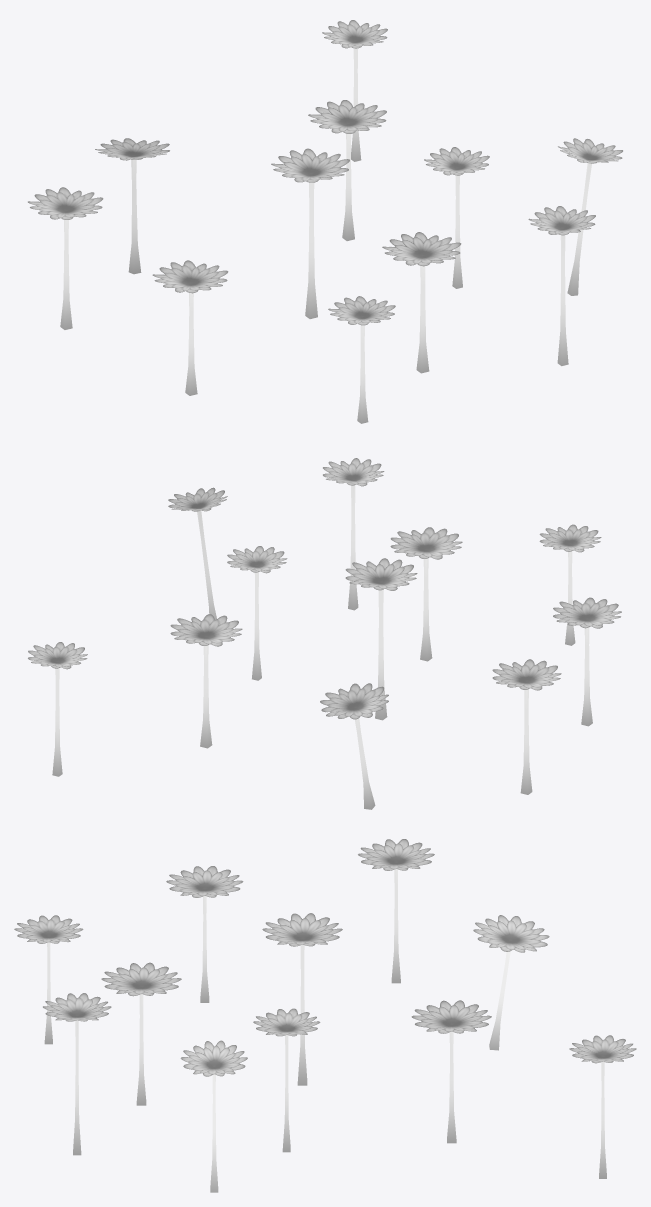
Rendered from SM_FlowersGroup_01_Unity.fbx.
3 renders of one model, top to bottom at view 1: azimuth 30°, elevation 25°; view 2: azimuth 150°, elevation 25°; view 3: azimuth 270°, elevation 25°, orthographic. The views are drawn at different scales.
Parts seen in each view (by area): view 1: SM_FlowerGroup_01_LOD0; view 2: SM_FlowerGroup_01_LOD0; view 3: SM_FlowerGroup_01_LOD0.
Part boxes in pixels (x1,y1,x2,y2): SM_FlowerGroup_01_LOD0: [28, 20, 622, 423]; SM_FlowerGroup_01_LOD0: [28, 458, 621, 809]; SM_FlowerGroup_01_LOD0: [14, 839, 636, 1192].
Size of what is drawn, in the model's own units: 1.59 by 0.4805 by 1.7.
